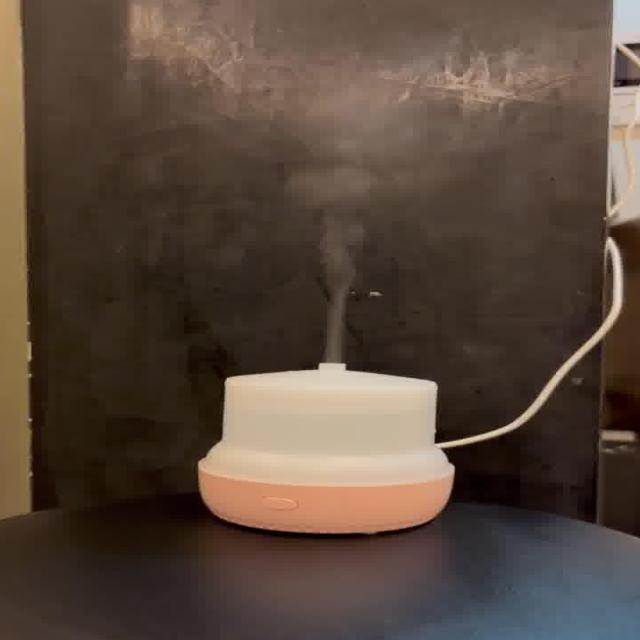fire: (310, 85, 418, 356)
